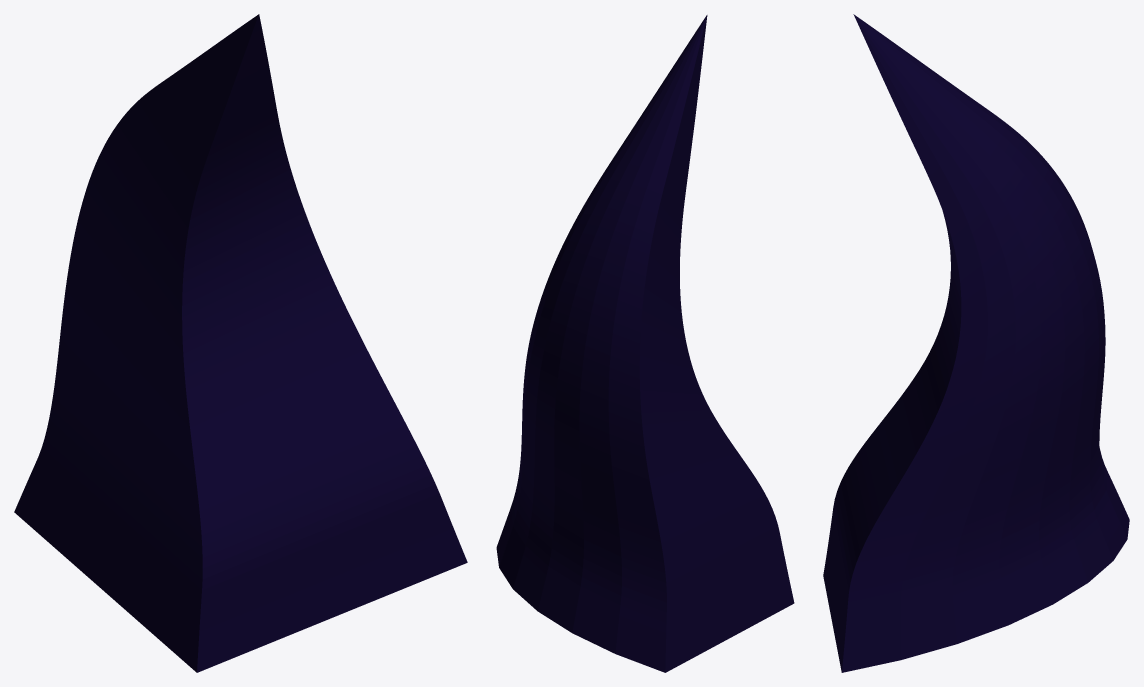
The model's file is Pointed column.fbx.
3 views of the same model, side by side, from view 1: azimuth 30°, elevation 25°; view 2: azimuth 150°, elevation 25°; view 3: azimuth 270°, elevation 25° (orthographic). The views are drawn at different scales.
Visible parts, largest first — view 1: Cylinder.001; view 2: Cylinder.001; view 3: Cylinder.001.
Part boxes in pixels (<box>): Cylinder.001: <box>14,14,467,672</box>; Cylinder.001: <box>496,15,794,672</box>; Cylinder.001: <box>823,14,1129,672</box>.
Size of the model in its own units: 107 by 212 by 98.55.
